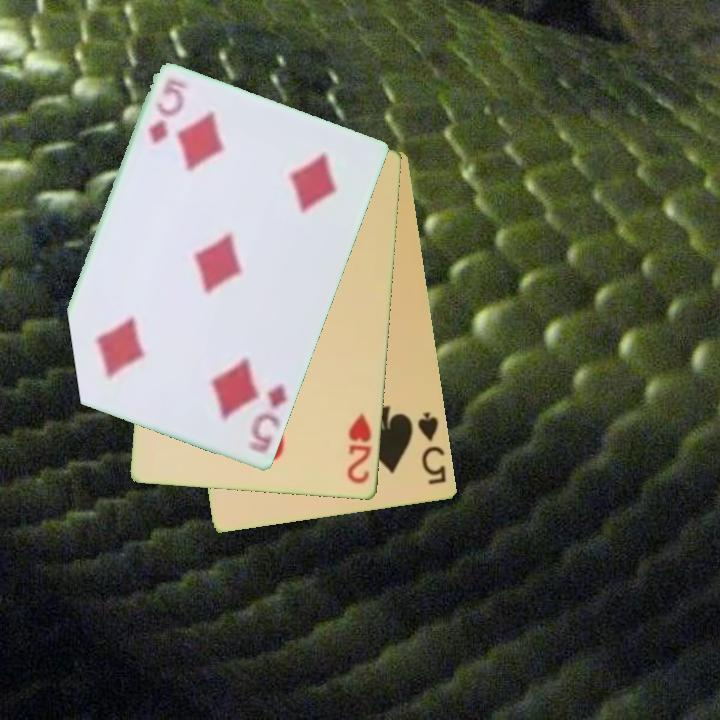2h: (344, 411, 375, 487)
5d: (244, 380, 291, 457), (145, 88, 182, 148)
5s: (415, 408, 450, 488)
